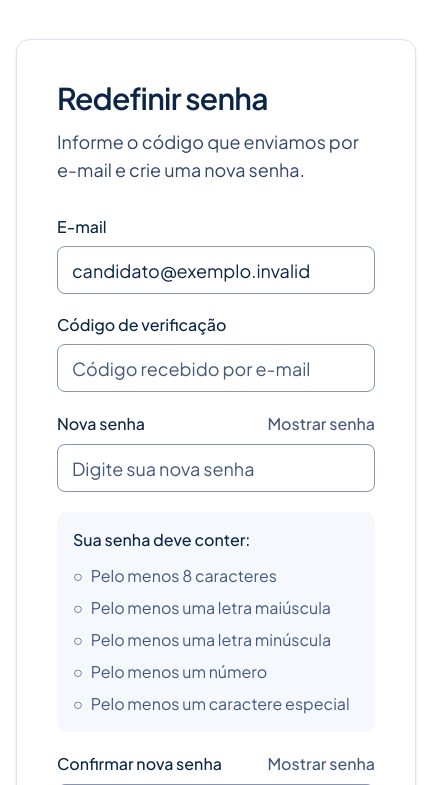
Test: ResetPasswordPage › reports a password the pool refuses on the password field
The width and height of the screenshot is (433, 785).
In the field labelled "Código de verificação": [216, 368] box [57,344,375,392], type "123456"
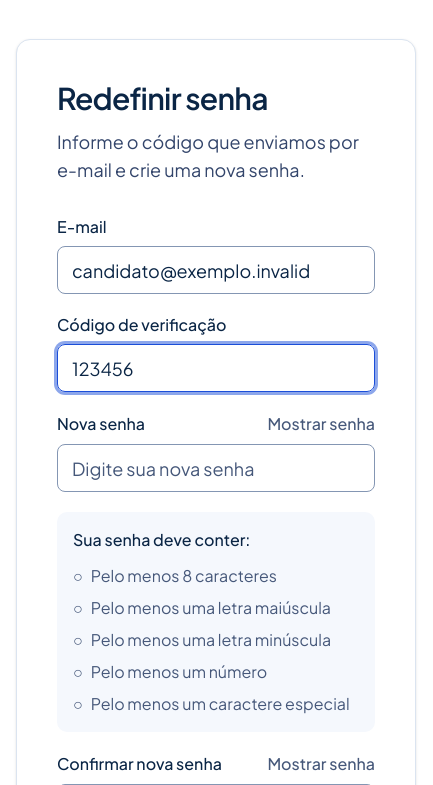
In the password field labelled "Nova senha": [216, 468] box [57,444,375,492], type "NovaSenha!42"
(page scrolled)
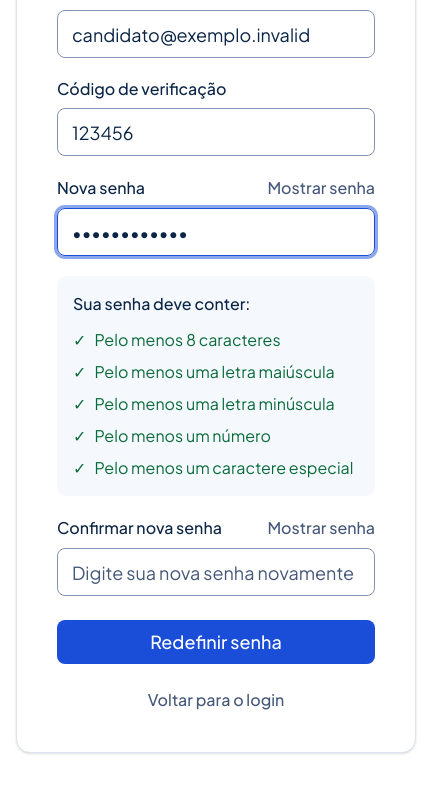
In the password field labelled "Confirmar nova senha": [216, 572] box [57,548,375,596], type "NovaSenha!42"
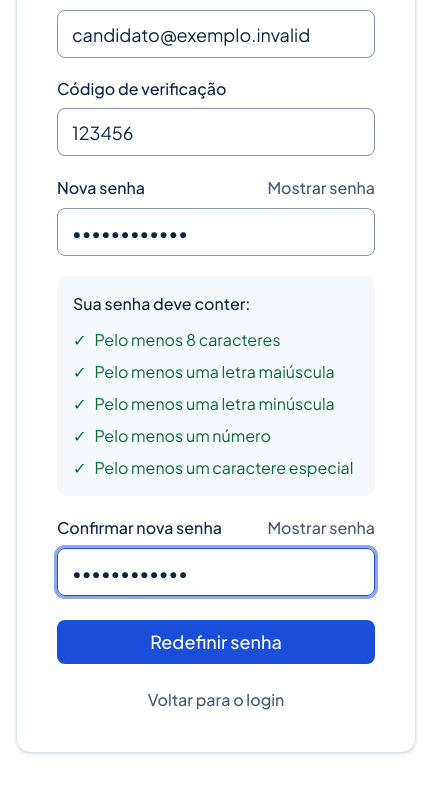
Click the button "Redefinir senha": [216, 642] box [57,620,375,664]
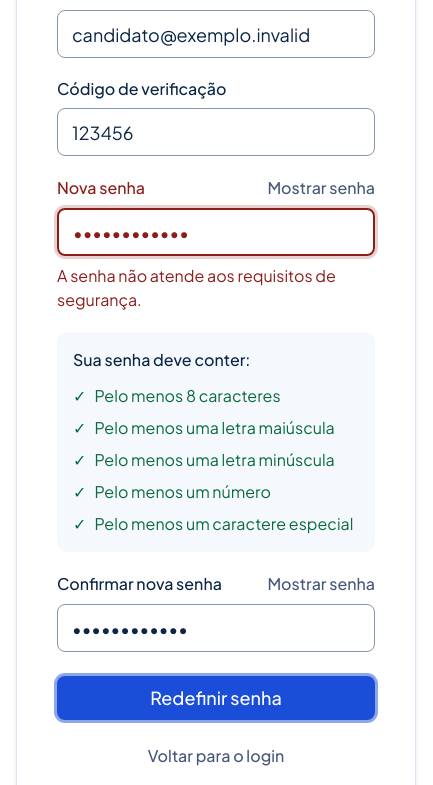
Expected: the text "A senha não atende aos requisitos de segurança." is shown, [57,264,375,312]
